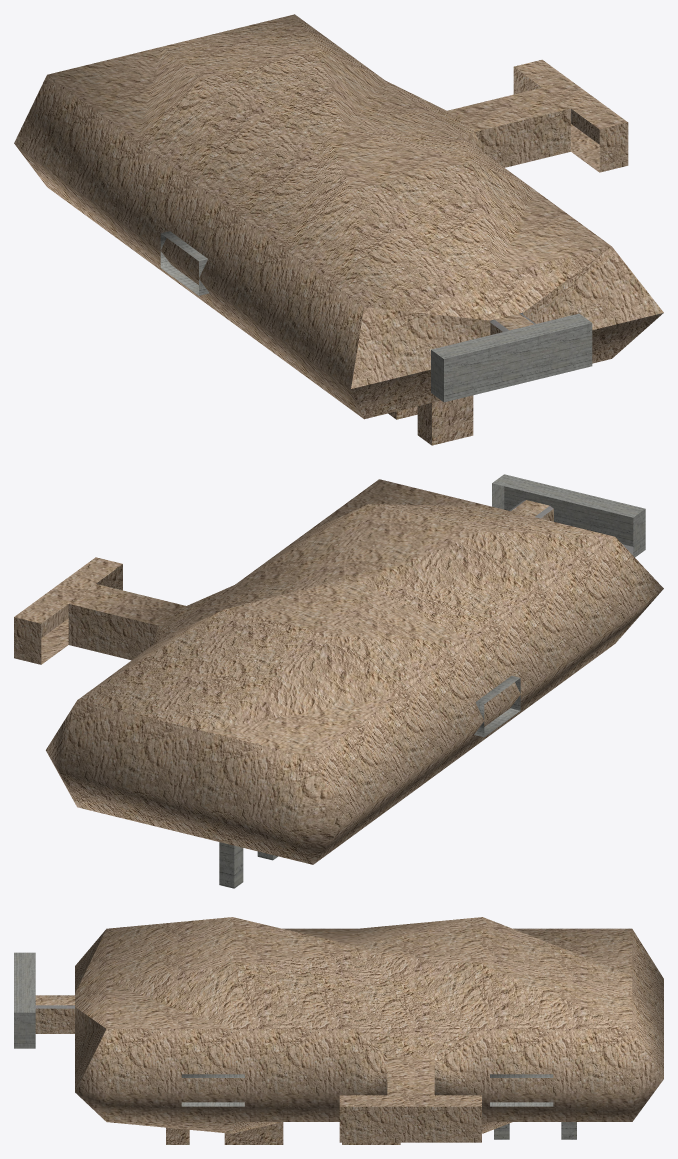
The model's file is nina_map.FBX.
3 renders of one model, top to bottom at view 1: azimuth 30°, elevation 25°; view 2: azimuth 150°, elevation 25°; view 3: azimuth 270°, elevation 25°, orthographic. The views are drawn at different scales.
Parts seen in each view (by area): view 1: nina; view 2: nina; view 3: nina.
Boxes of the visible parts, bbox=[...] form: nina: bbox=[14, 14, 663, 445]; nina: bbox=[14, 474, 663, 888]; nina: bbox=[14, 917, 663, 1144].
Size of the model in its own units: 530 by 822 by 272.
